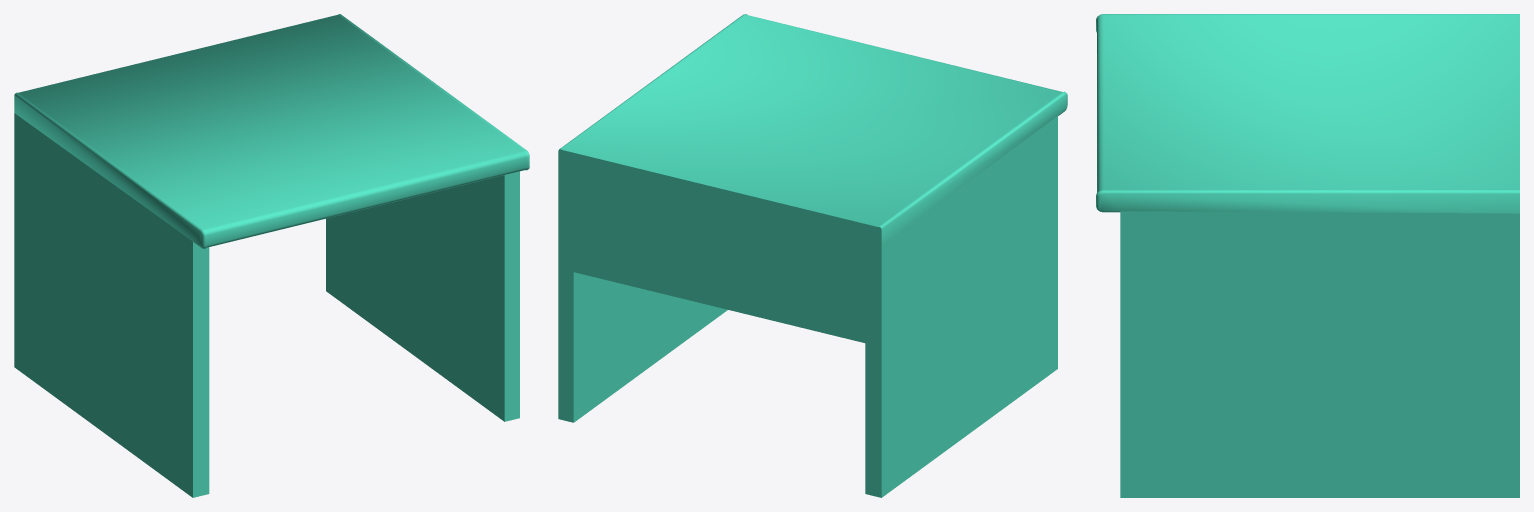
Rendered from Mesa.fbx.
The picture shows the model from 3 angles, left to right: view 1: azimuth 30°, elevation 25°; view 2: azimuth 150°, elevation 25°; view 3: azimuth 270°, elevation 25°; orthographic projection. The views are drawn at different scales.
Visible parts, largest first — view 1: Mesa Individual; view 2: Mesa Individual; view 3: Mesa Individual.
Boxes of the visible parts, x1,y1,x2,y2 form: Mesa Individual: (14,14,529,497); Mesa Individual: (558,14,1067,497); Mesa Individual: (1096,14,1519,497).
Size of the model in its own units: 100 by 80 by 100.
